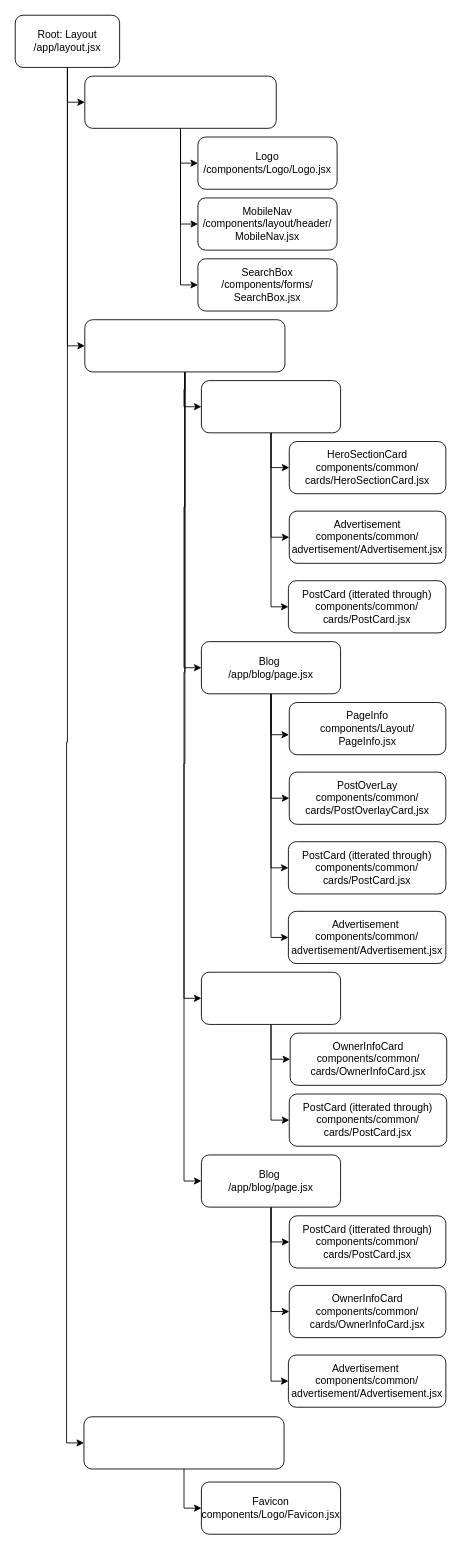
Image size: 462x1549. Some labels were removed from this diagram. The centre of each missing label's shape, as x and y in pixels:
"Author /app/author/page.jsx" belongs at (271,997).
"Footer /components/layout/footer/Footer.jsx" belongs at (183,1442).
"Header /components/layout/header/Header.jsx" belongs at (180,101).
"Home /app/page.jsx" belongs at (271,406).
"Main {Children} Dynamic content from app router" belongs at (184,345).
